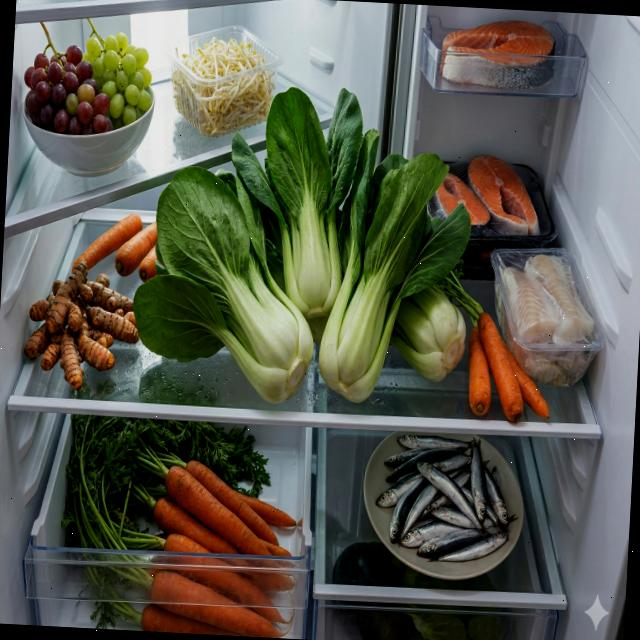bean_sprouts: (168, 32, 278, 140)
carrot: (140, 458, 302, 638), (464, 312, 554, 425), (71, 210, 163, 284)
fish: (373, 432, 524, 566), (497, 252, 599, 388), (430, 150, 545, 237), (438, 16, 557, 93)
grape: (21, 26, 156, 140)
pakchoy: (129, 77, 480, 416)
turmeric: (22, 256, 144, 394)
